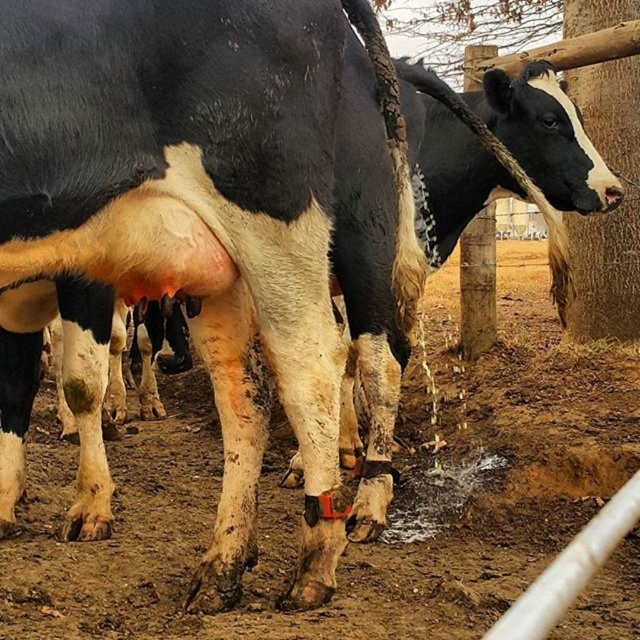Cattle: (0, 0, 626, 615)
